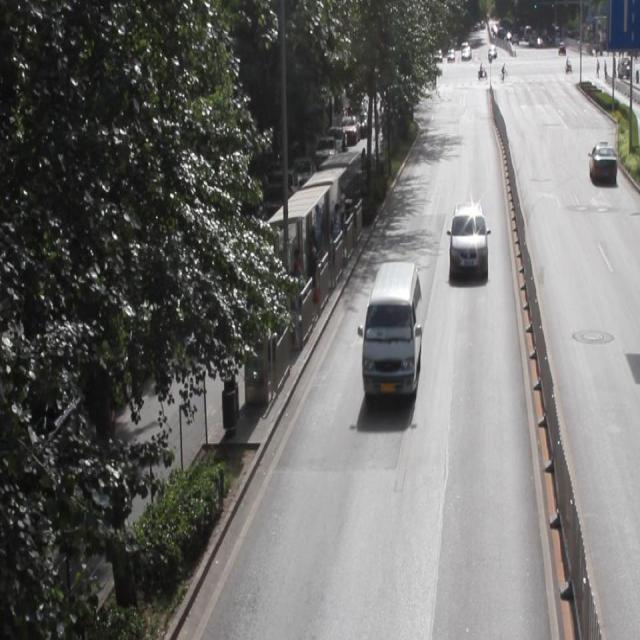car: (448, 202, 488, 274), (588, 141, 615, 185)
truck: (362, 259, 422, 394)
